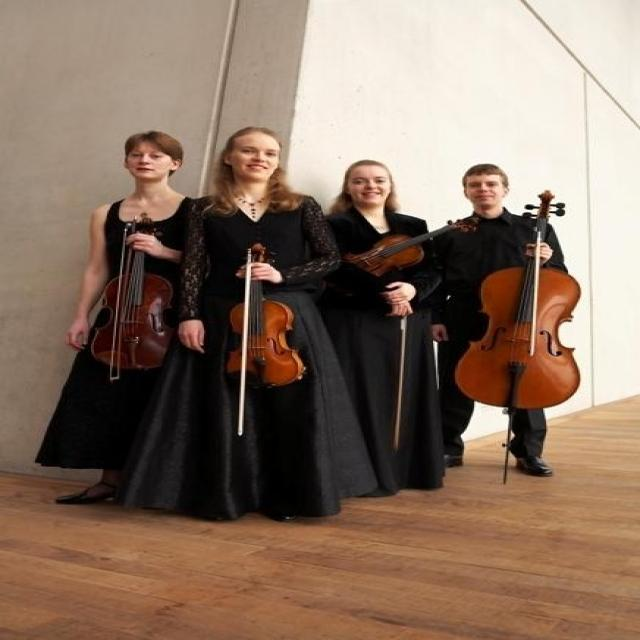cello: (450, 183, 587, 412)
violin: (83, 209, 183, 372), (221, 242, 315, 386), (342, 218, 478, 275)
